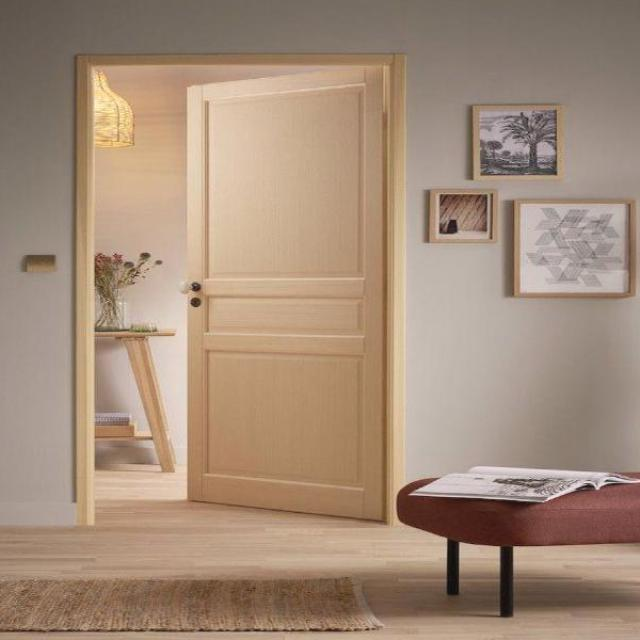door: (183, 64, 387, 522)
